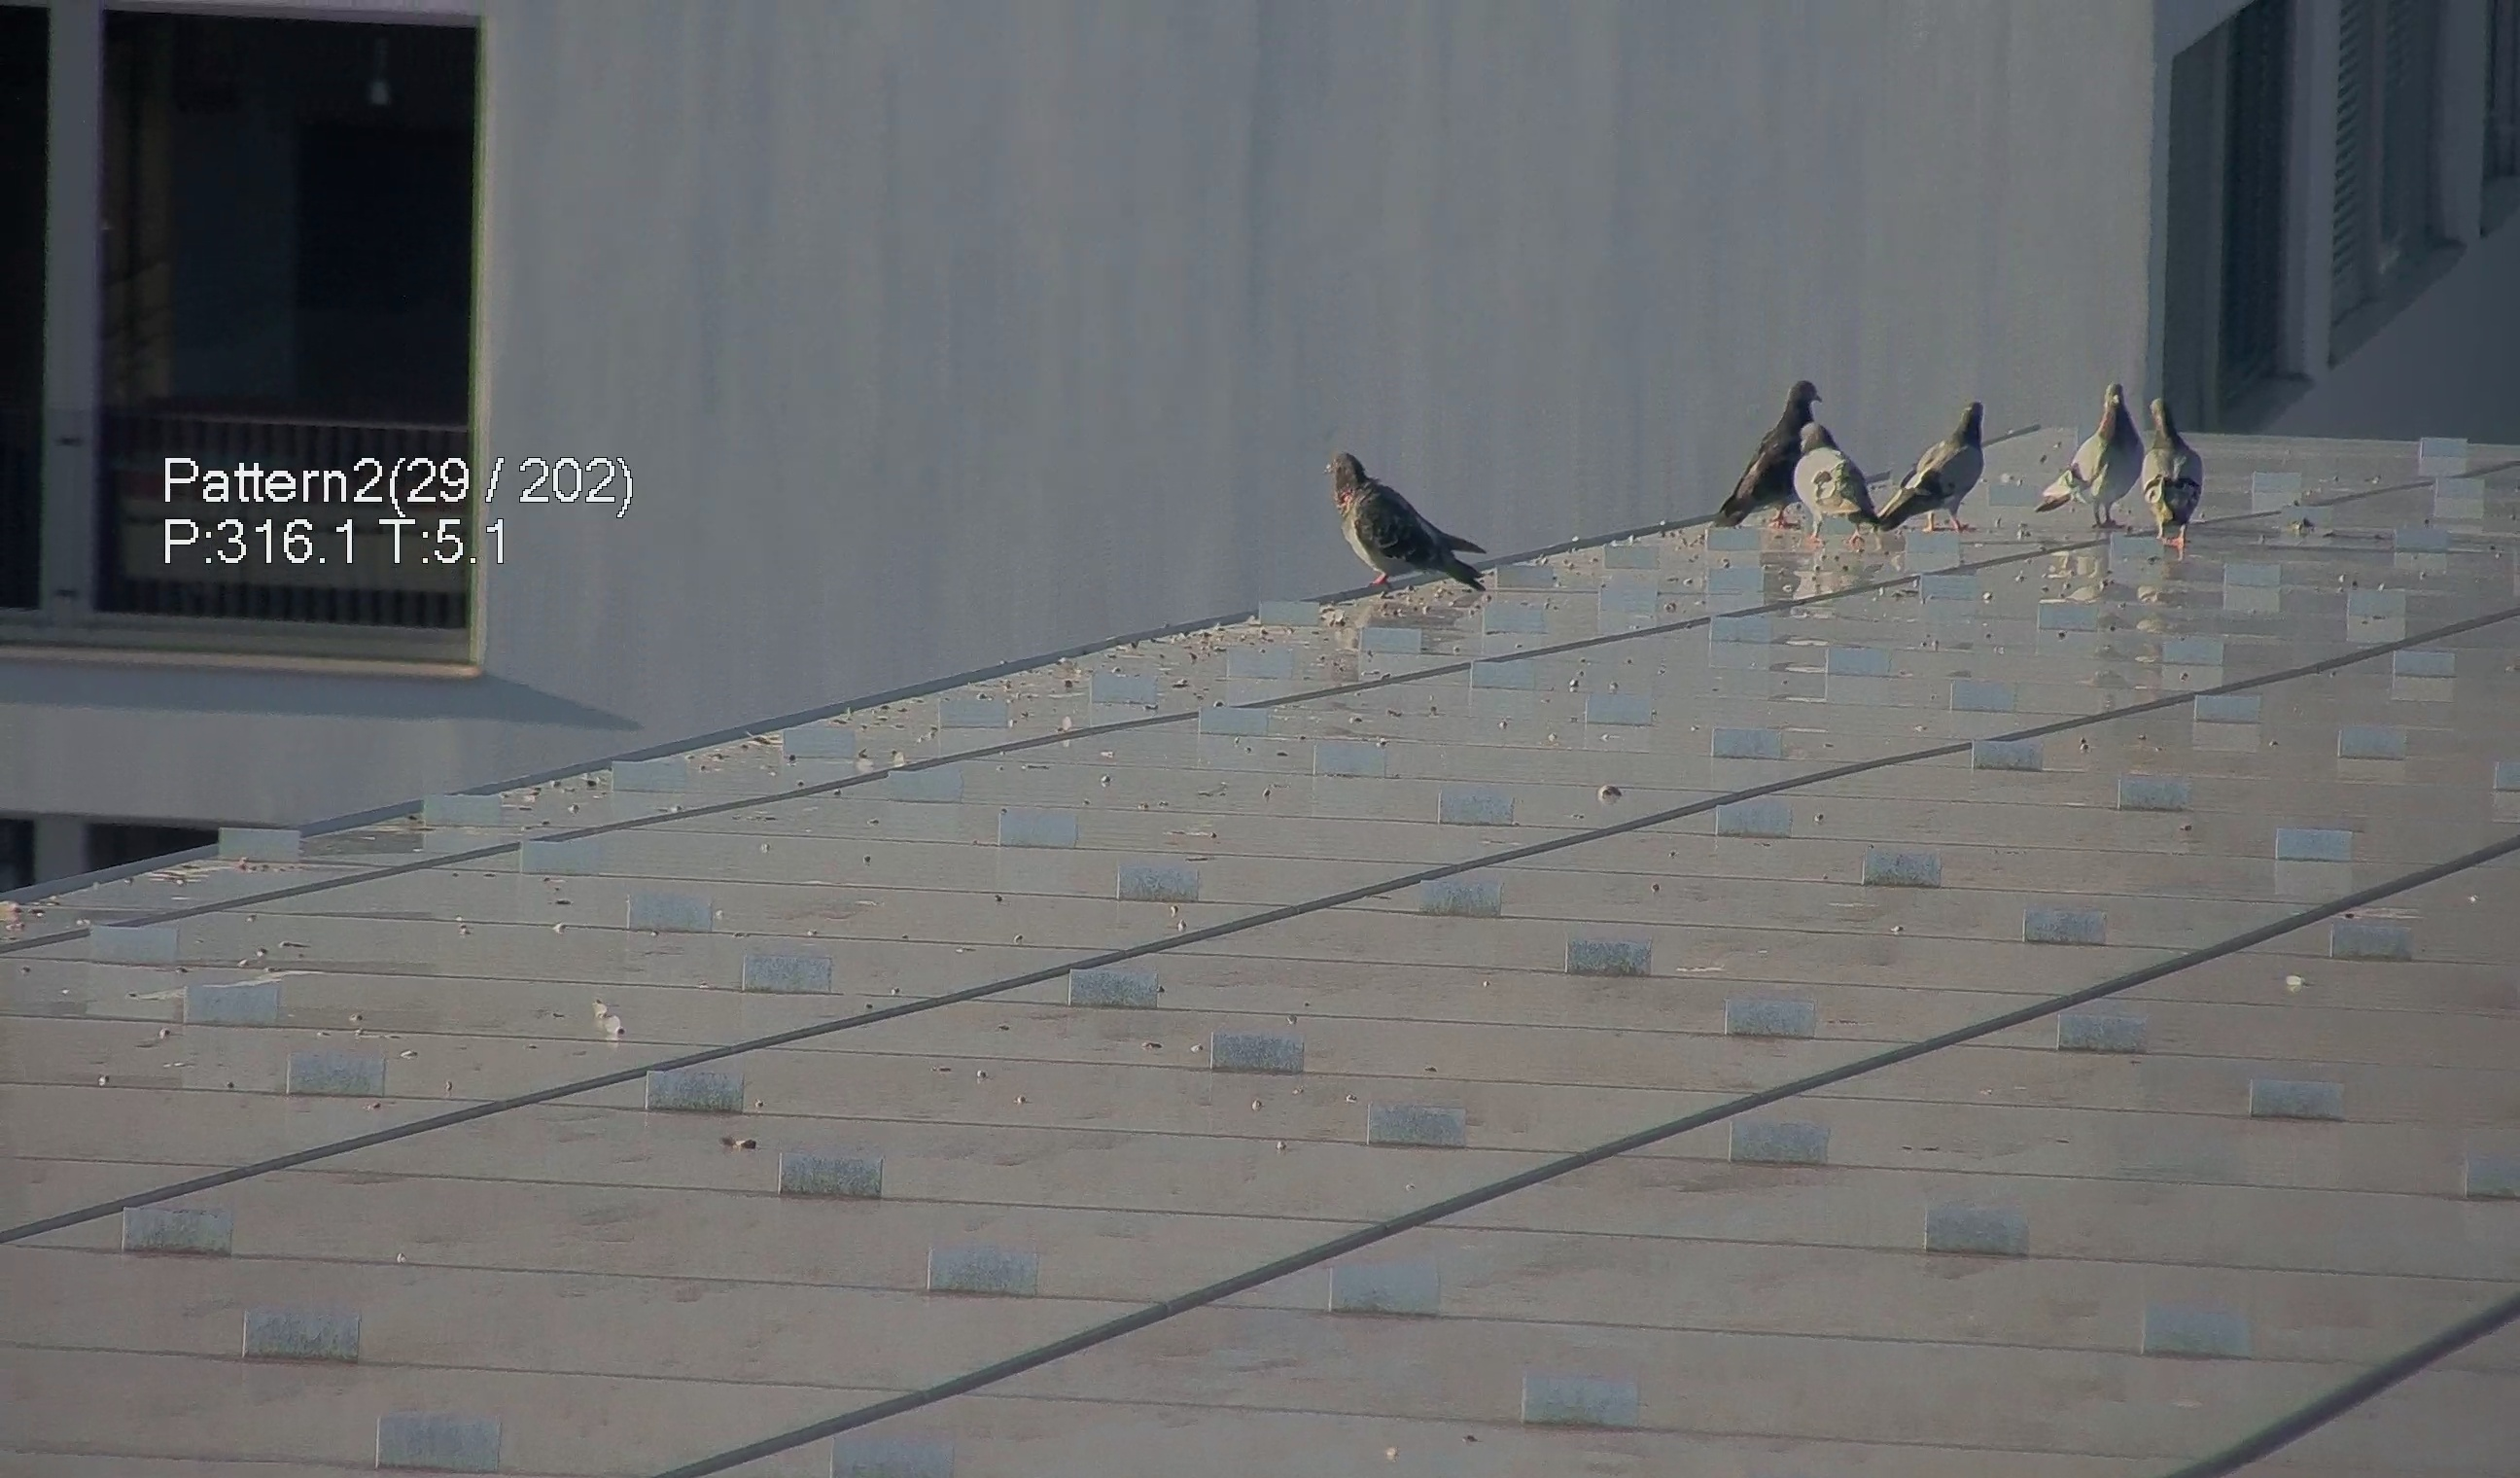Pigeon: (1319, 433, 1497, 604), (2029, 375, 2149, 533), (1878, 384, 2001, 530), (1715, 377, 1825, 533), (2131, 399, 2212, 560), (1790, 412, 1871, 542)
